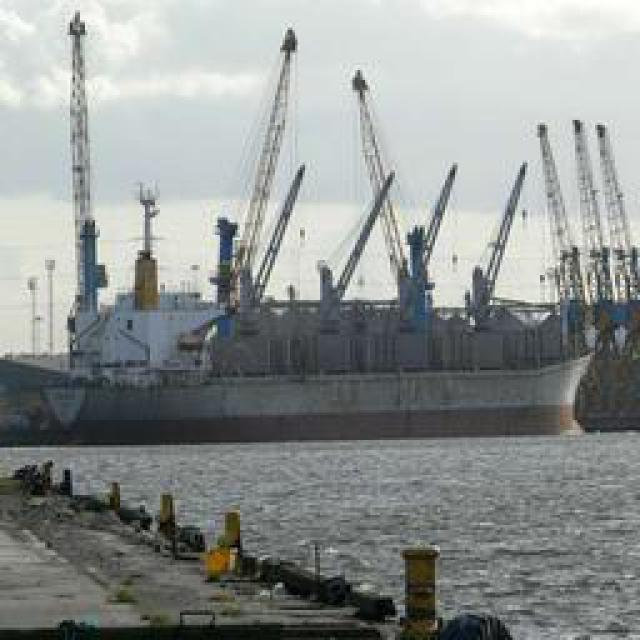Ship: (26, 39, 591, 424)
